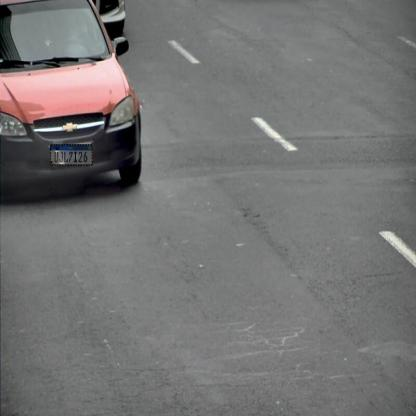PlacaM: (50, 144, 92, 166)
